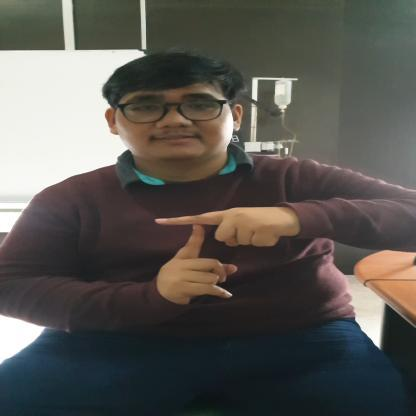T: (154, 205, 293, 302)
